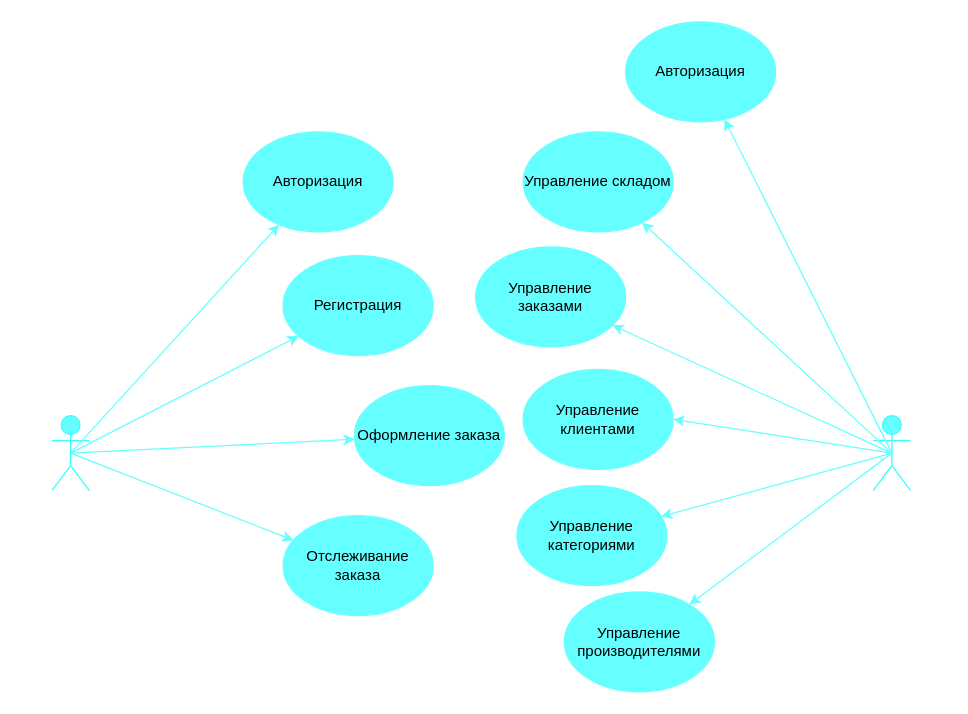
Image size: 968x714. Some labels were removed from this diagram. The centre of each missing label's shape, as x and y in pixels:
"Администратор" belongs at (x=891, y=452).
"Пользователь" belongs at (x=70, y=452).
